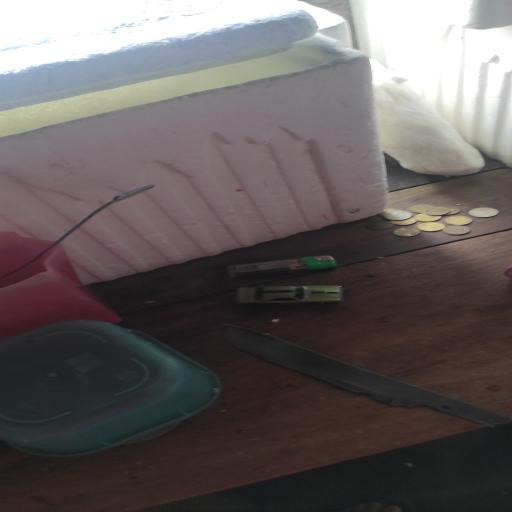Carrito: (237, 285, 342, 303)
